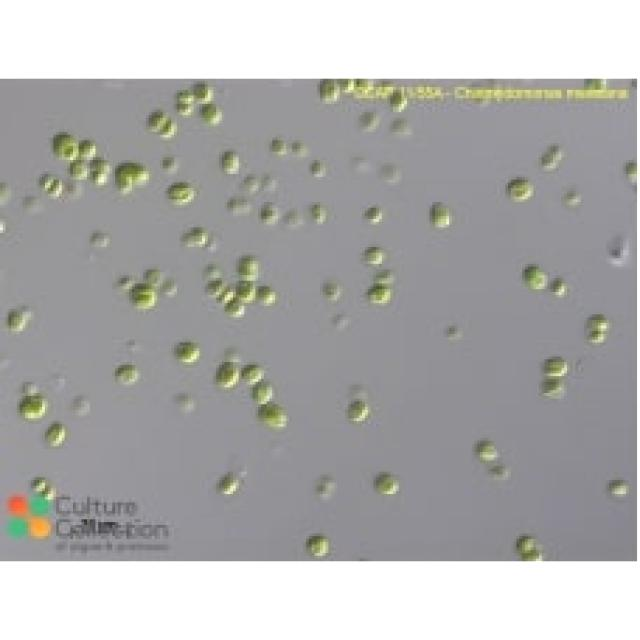Green Algae: (429, 194, 452, 233), (539, 351, 567, 379), (163, 182, 196, 205), (216, 362, 239, 393), (20, 396, 48, 421), (314, 81, 340, 107), (365, 283, 390, 309), (53, 132, 76, 160), (118, 157, 146, 180), (303, 533, 331, 556), (177, 340, 202, 365), (216, 472, 239, 499), (219, 146, 241, 174), (506, 177, 534, 199), (40, 424, 68, 446), (374, 472, 402, 494), (202, 101, 225, 126), (362, 244, 387, 267), (348, 398, 368, 426), (522, 267, 547, 289), (115, 362, 138, 385), (239, 278, 258, 303), (146, 107, 166, 129), (387, 93, 407, 115), (514, 533, 536, 553), (609, 480, 629, 502), (477, 441, 500, 460), (191, 222, 208, 247), (6, 309, 25, 331), (78, 138, 95, 160), (129, 295, 155, 309), (129, 284, 155, 298), (191, 82, 213, 98), (309, 157, 323, 180), (70, 162, 87, 180), (592, 314, 609, 332), (267, 138, 286, 154), (242, 365, 258, 384), (261, 202, 275, 222), (36, 171, 50, 191), (255, 388, 272, 404), (368, 205, 382, 224), (50, 180, 64, 199), (550, 143, 562, 160), (542, 154, 556, 168)
